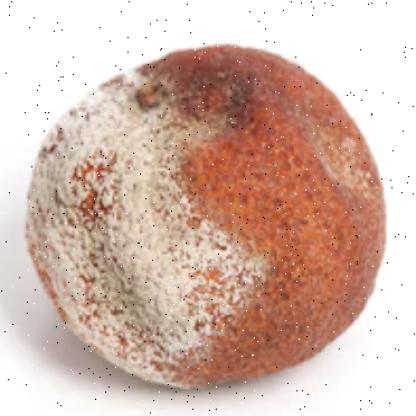rotten: (27, 45, 387, 387)
